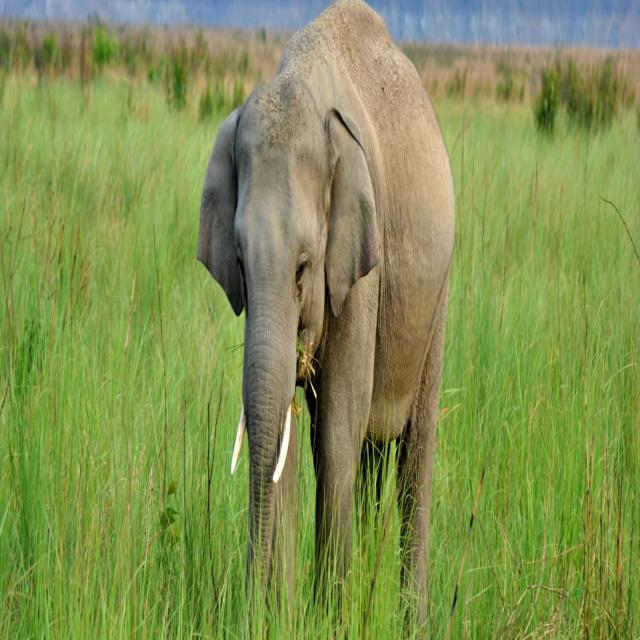Elephant: (196, 0, 459, 640)
